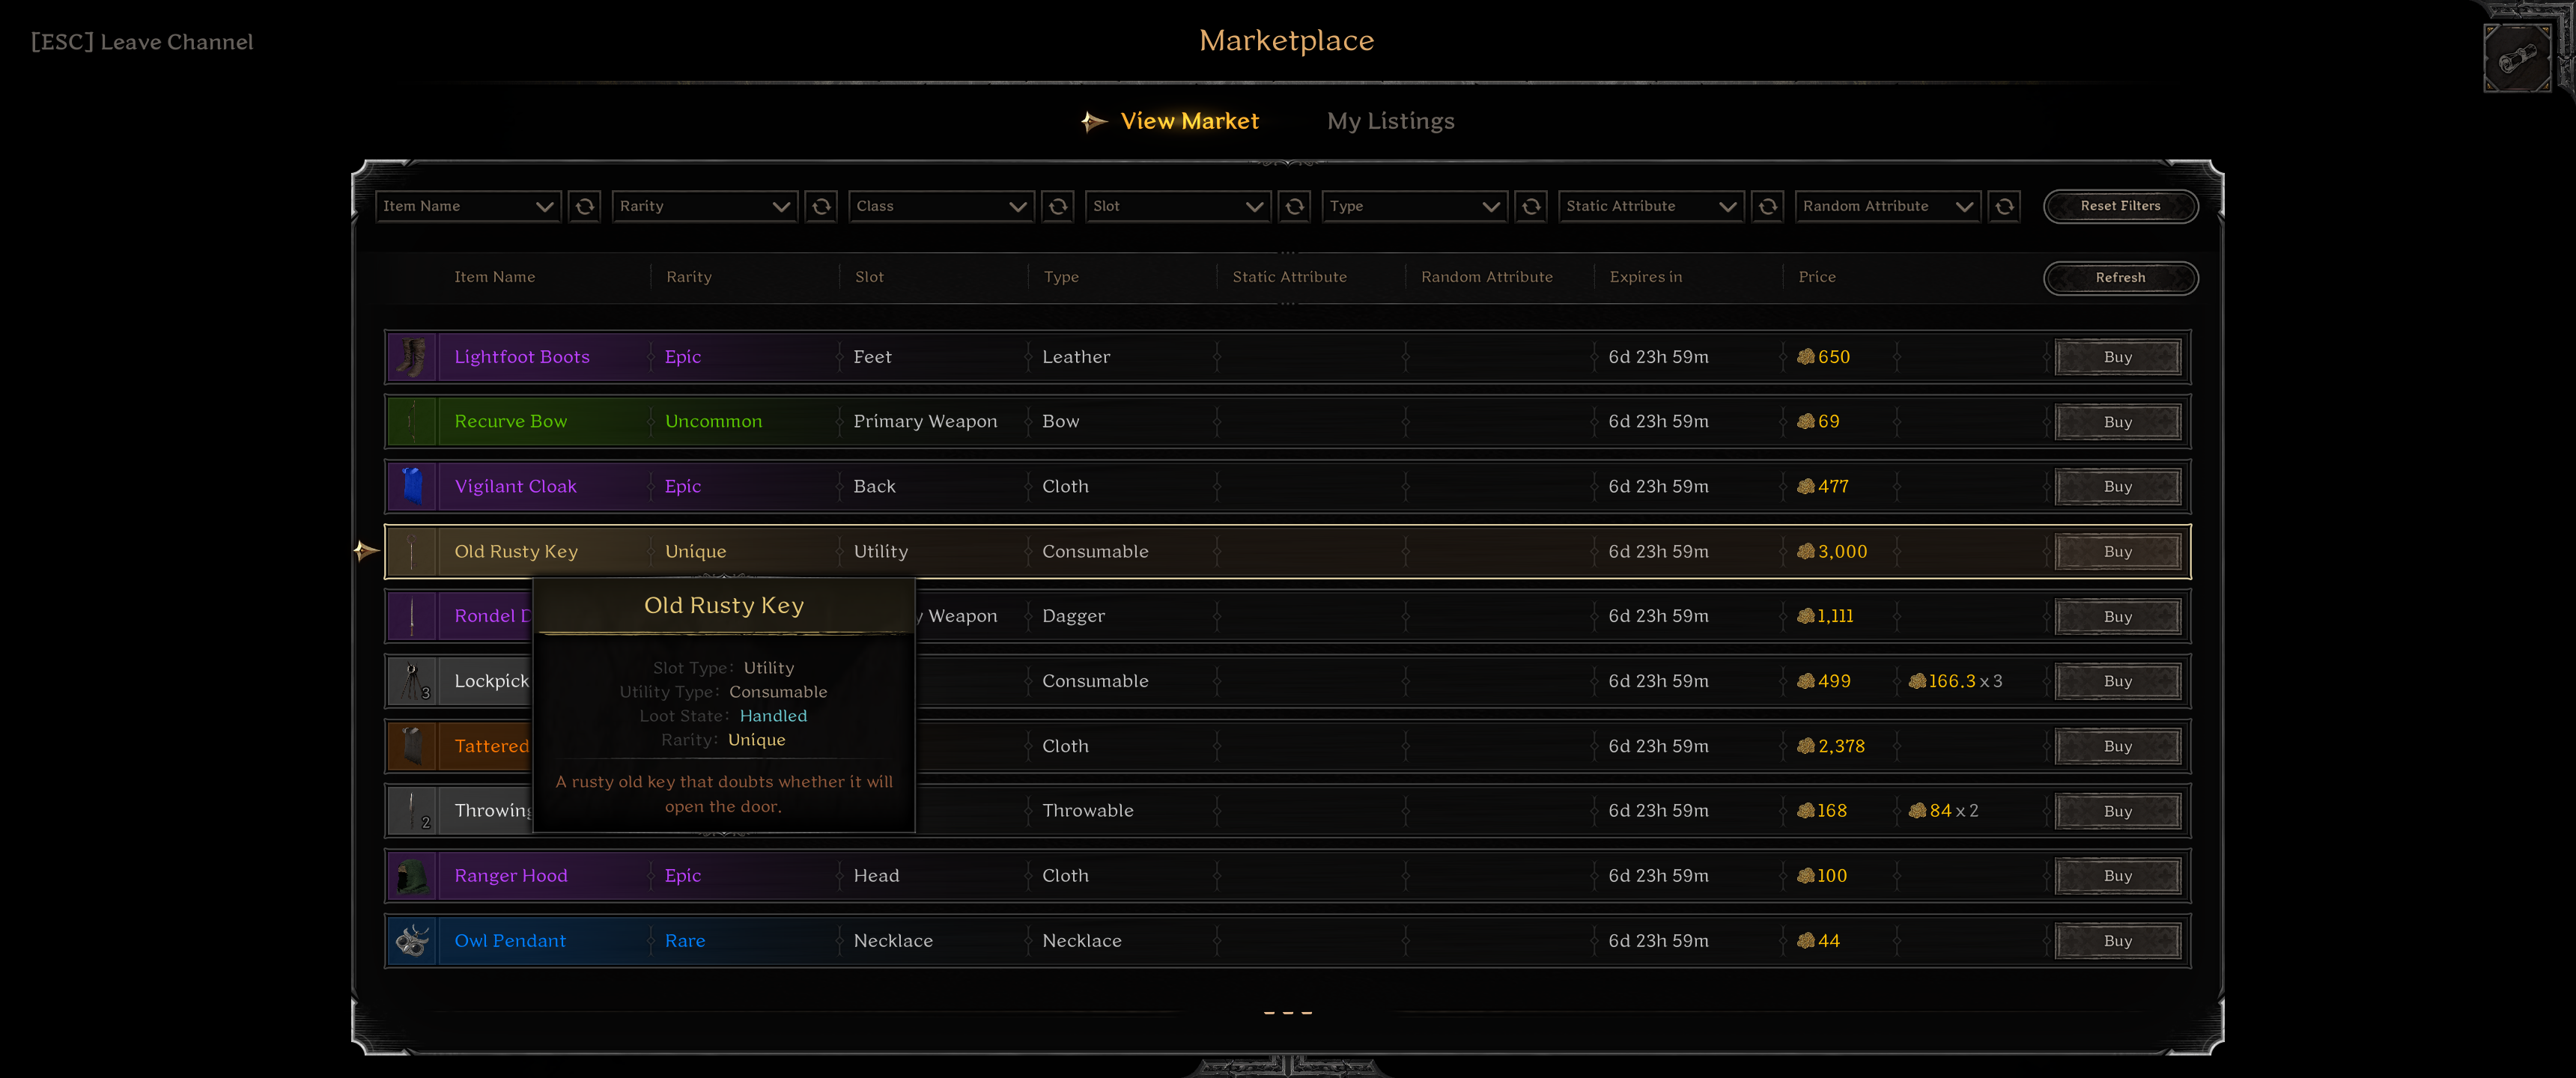Tooltip: (531, 575, 917, 835)
